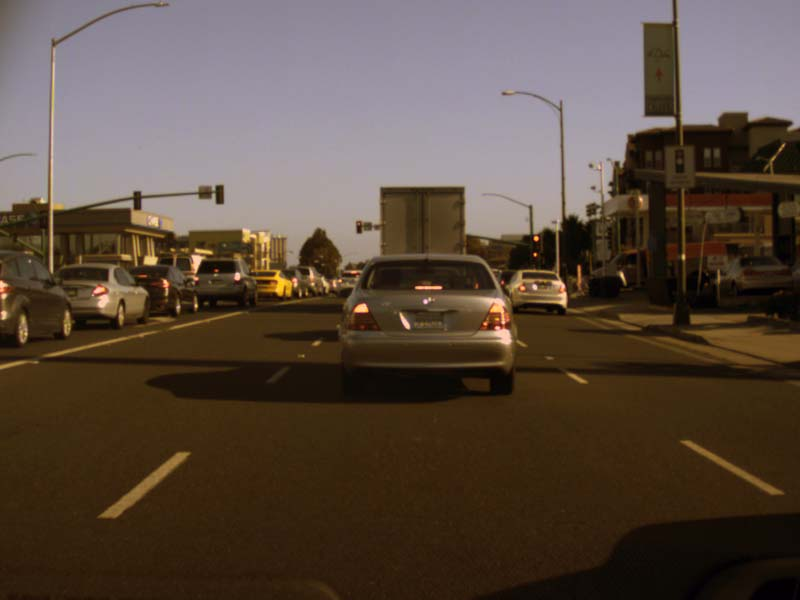Red: (531, 234, 542, 251), (530, 251, 540, 269), (355, 220, 362, 234)
